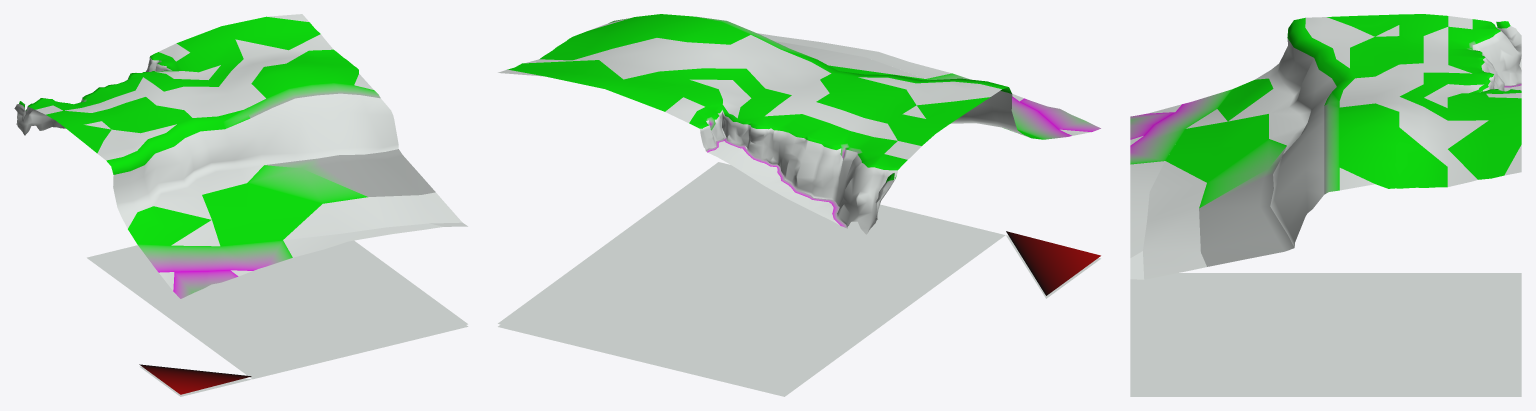
3 renders of one model, left to right at view 1: azimuth 30°, elevation 25°; view 2: azimuth 150°, elevation 25°; view 3: azimuth 270°, elevation 25°, orthographic. The views are drawn at different scales.
Visible parts, largest first — view 1: G:\FFXIV-MapTools\exports\f1f1\bg\ffxiv\fst_f1\fld\f1f1\bgpl (×10); view 2: G:\FFXIV-MapTools\exports\f1f1\bg\ffxiv\fst_f1\fld\f1f1\bgpl (×12); view 3: G:\FFXIV-MapTools\exports\f1f1\bg\ffxiv\fst_f1\fld\f1f1\bgpl (×9).
Part boxes in pixels (x1=…): G:\FFXIV-MapTools\exports\f1f1\bg\ffxiv\fst_f1\fld\f1f1\bgpl (×10): x1=14, y1=14, x2=468, y2=394; G:\FFXIV-MapTools\exports\f1f1\bg\ffxiv\fst_f1\fld\f1f1\bgpl (×12): x1=498, y1=14, x2=1100, y2=396; G:\FFXIV-MapTools\exports\f1f1\bg\ffxiv\fst_f1\fld\f1f1\bgpl (×9): x1=1130, y1=14, x2=1521, y2=396.
Size of the model in its own units: 128 by 84.31 by 128.
